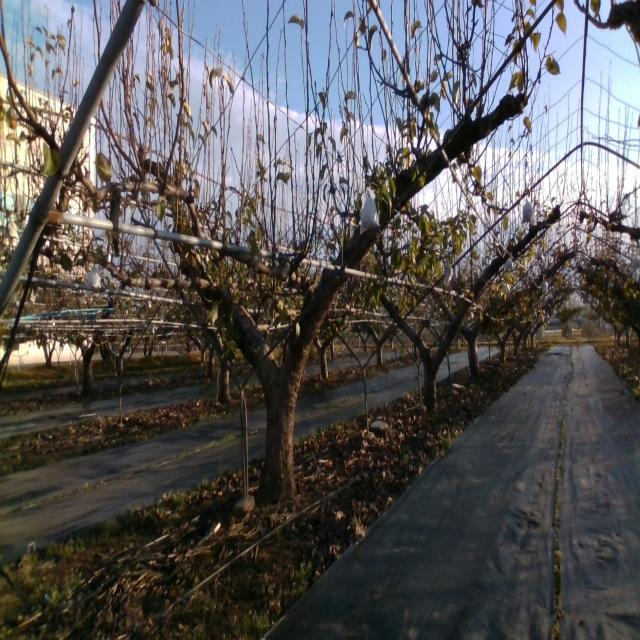pearbags: (359, 190, 382, 234), (521, 195, 537, 225)
